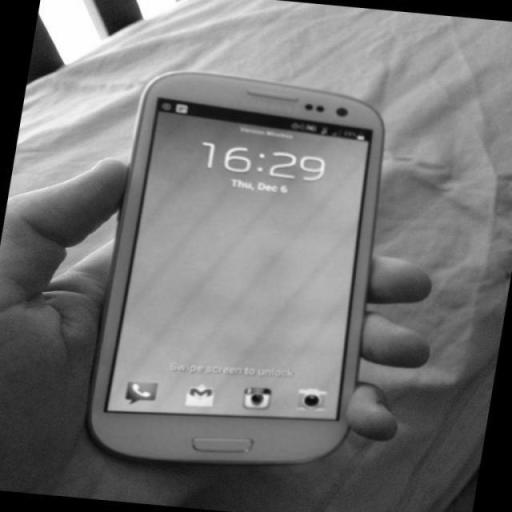phone: (87, 72, 382, 462)
